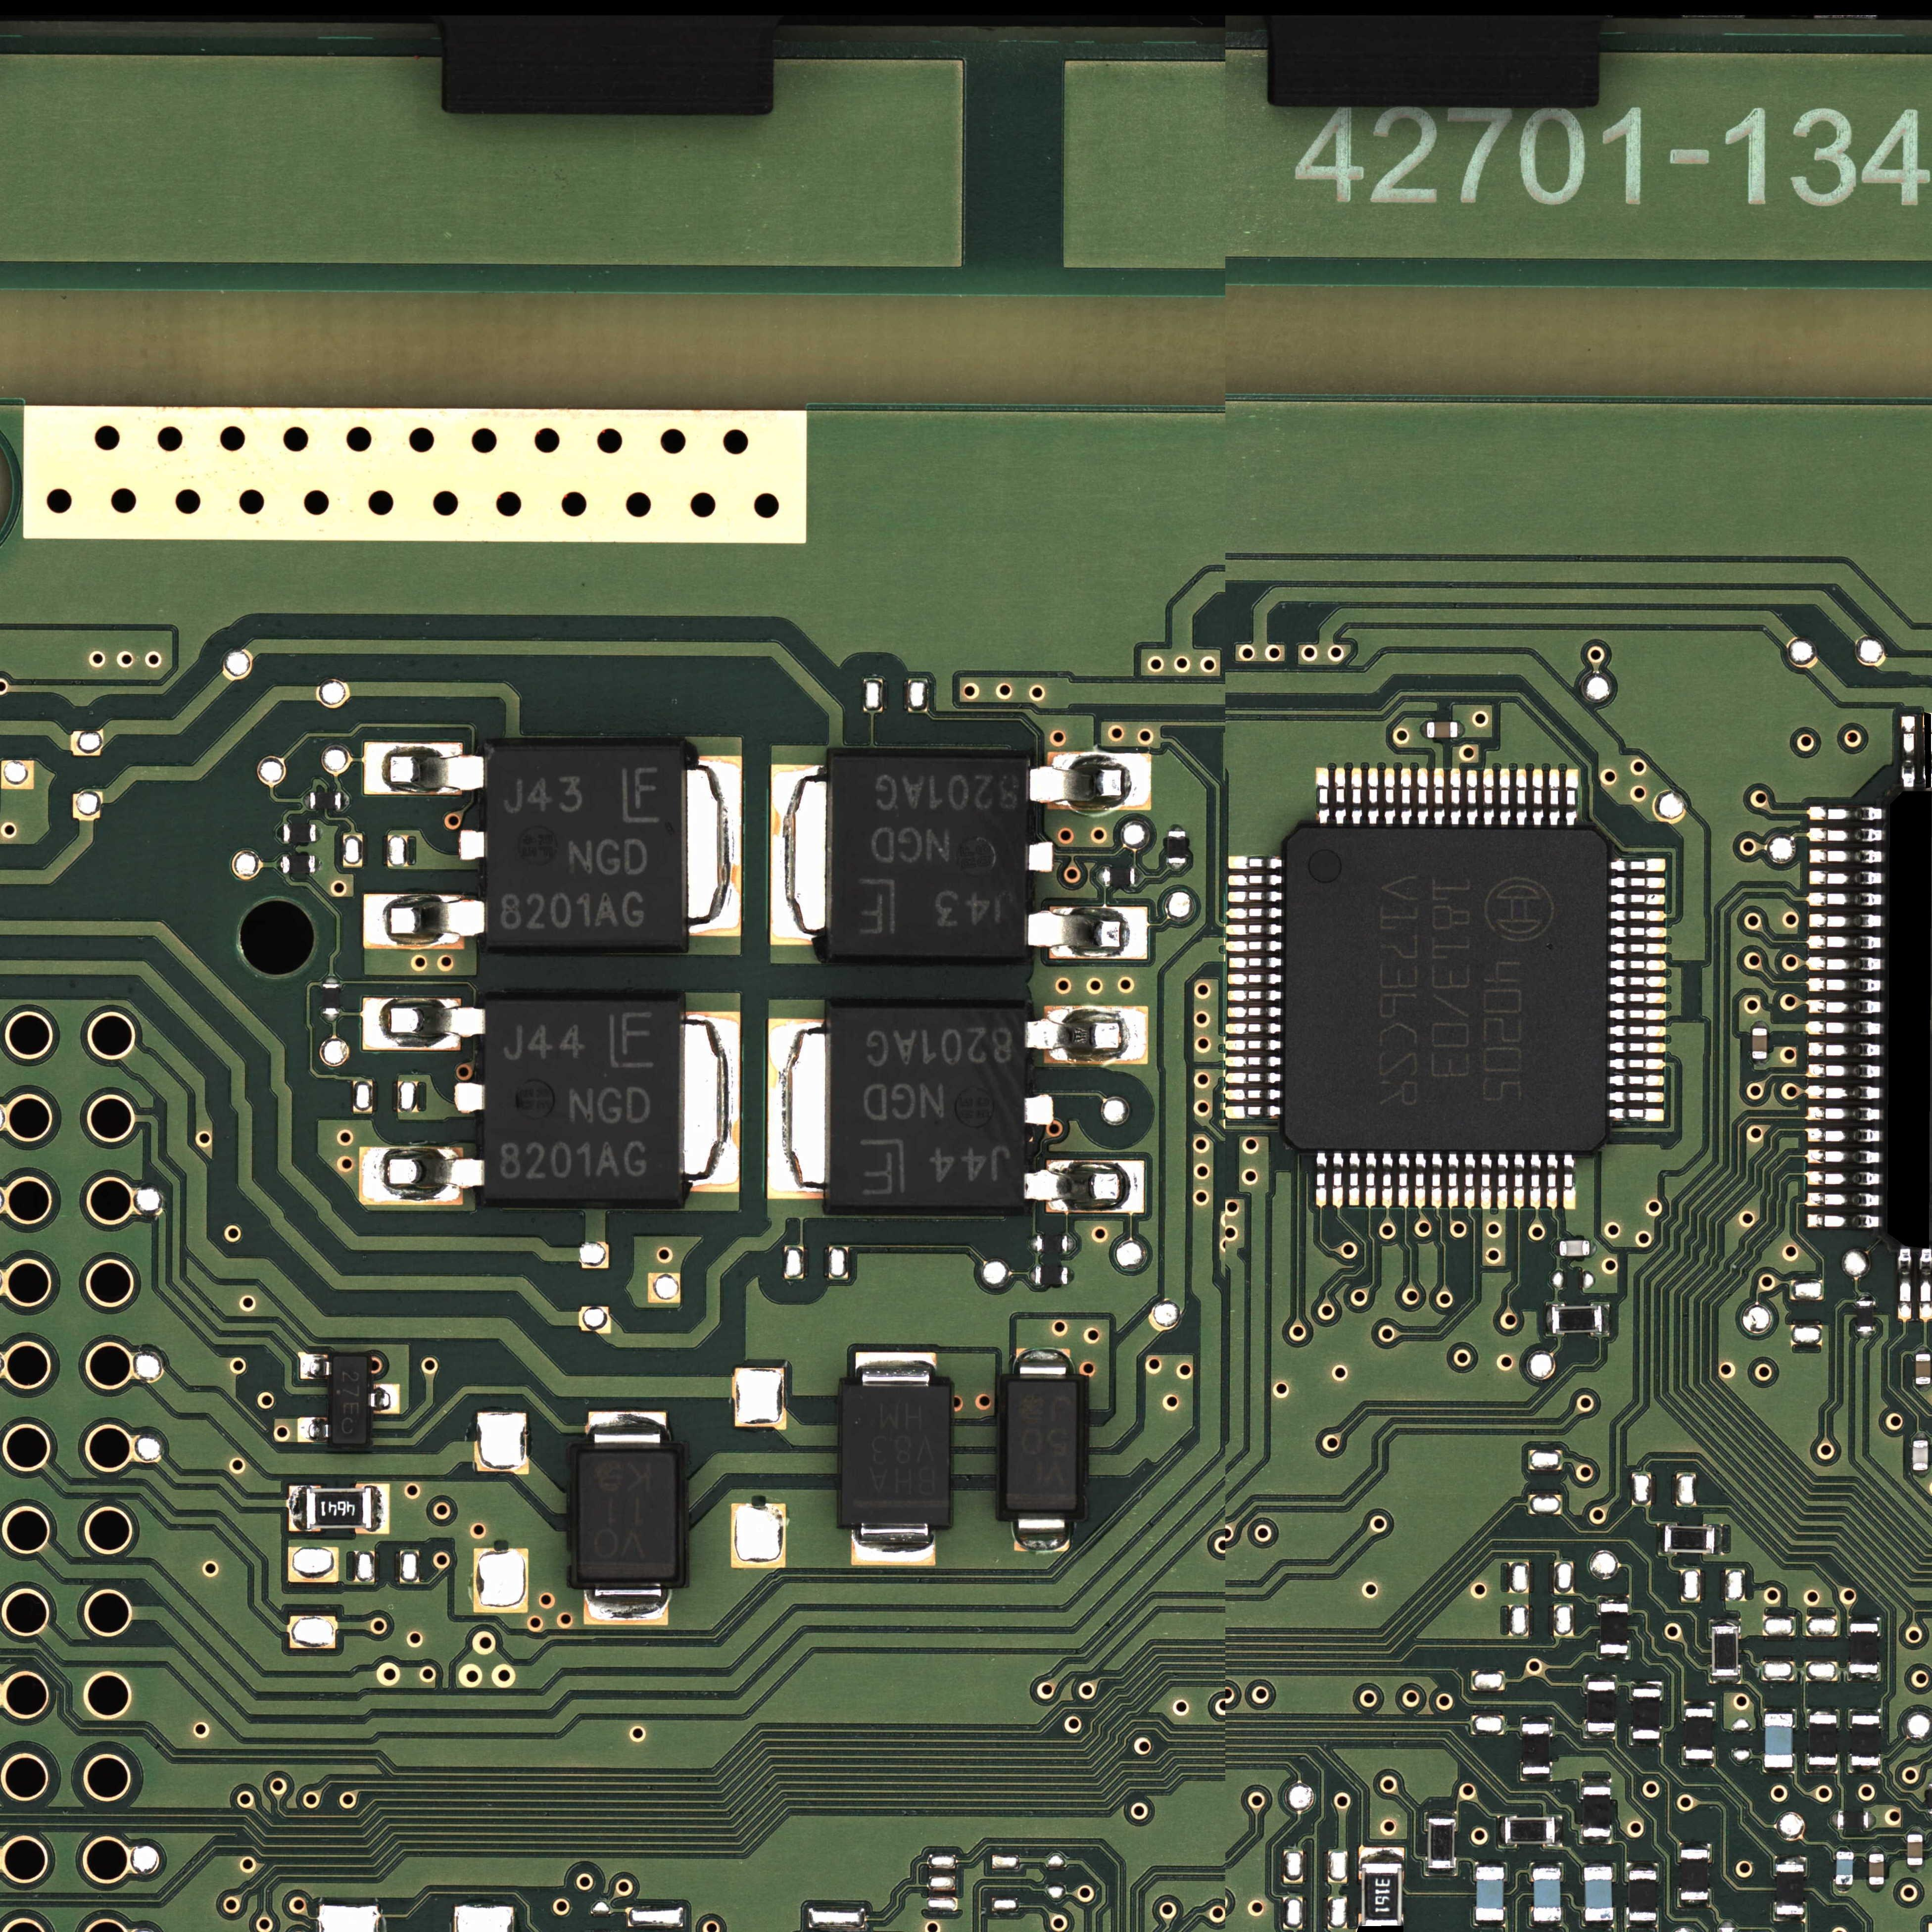Package: (1283, 828, 1606, 1152), (485, 745, 681, 947), (830, 1008, 1024, 1207), (832, 757, 1024, 957), (485, 1001, 678, 1200), (837, 1382, 954, 1525), (571, 1445, 683, 1583), (1000, 1375, 1083, 1516), (331, 1353, 370, 1445), (306, 1488, 372, 1529), (1362, 1867, 1401, 1928), (1764, 1714, 1792, 1767), (1476, 1867, 1504, 1920), (1534, 1868, 1560, 1921), (1585, 1867, 1612, 1920), (1587, 1683, 1615, 1732), (1808, 1714, 1836, 1764), (1599, 1603, 1628, 1652), (1851, 1716, 1879, 1766), (1522, 1723, 1550, 1773), (1681, 1849, 1707, 1900), (1629, 1870, 1656, 1920), (1552, 1306, 1601, 1332), (1633, 1690, 1660, 1739), (1583, 1787, 1610, 1836), (1776, 1865, 1803, 1914), (1686, 1709, 1713, 1759), (1428, 1819, 1454, 1868), (1851, 1624, 1877, 1672), (1665, 1527, 1714, 1552), (1506, 1819, 1555, 1844), (1713, 1626, 1737, 1675), (281, 855, 315, 874), (1168, 832, 1187, 863), (283, 824, 317, 842), (1035, 1235, 1069, 1253), (310, 793, 341, 810), (1104, 869, 1136, 886), (1035, 1267, 1067, 1284), (1836, 1812, 1868, 1829), (1836, 1852, 1852, 1886), (322, 984, 340, 1014), (1426, 722, 1458, 738), (1858, 1300, 1874, 1332), (1559, 1240, 1589, 1256), (1752, 1028, 1767, 1058), (1913, 1440, 1928, 1470), (1907, 1835, 1923, 1865), (1868, 1854, 1884, 1884), (1916, 1353, 1930, 1384)
Solder: (681, 755, 743, 938), (768, 1017, 830, 1198), (678, 1012, 740, 1191), (771, 764, 832, 945), (1024, 1005, 1146, 1065), (361, 1146, 485, 1205), (1026, 752, 1150, 809), (363, 893, 483, 950), (1024, 906, 1148, 961), (364, 996, 485, 1051), (1024, 1161, 1145, 1214), (364, 741, 483, 794), (851, 1525, 936, 1566), (584, 1587, 669, 1626), (855, 1352, 936, 1384), (589, 1412, 667, 1444), (1012, 1518, 1070, 1552), (1016, 1348, 1070, 1373), (1808, 826, 1884, 842), (1808, 955, 1884, 971), (1900, 715, 1916, 789), (1808, 892, 1882, 908), (1808, 913, 1882, 929), (1806, 1085, 1881, 1100), (1897, 1247, 1913, 1320), (1808, 807, 1884, 821), (1806, 1108, 1882, 1122), (1806, 1171, 1882, 1185), (1810, 849, 1884, 863), (1810, 870, 1884, 885), (1808, 936, 1882, 950), (1808, 978, 1882, 993), (1808, 1000, 1882, 1014), (1808, 1021, 1882, 1035), (1808, 1042, 1882, 1056), (1806, 1065, 1881, 1079), (1808, 1129, 1882, 1143), (1808, 1192, 1882, 1207), (1808, 1214, 1882, 1228), (1806, 1150, 1881, 1164), (1918, 1249, 1932, 1320), (1024, 1093, 1054, 1125), (370, 1384, 400, 1414), (455, 1083, 483, 1115), (372, 1484, 389, 1534), (299, 1353, 331, 1380), (288, 1484, 306, 1532), (1361, 1845, 1403, 1865), (1610, 858, 1667, 872), (1026, 842, 1053, 872), (297, 1417, 329, 1442), (460, 830, 485, 860), (1334, 766, 1346, 824), (1316, 766, 1329, 824), (1384, 768, 1396, 826), (1566, 768, 1578, 826), (1433, 768, 1445, 826), (1483, 768, 1495, 826), (1608, 1008, 1667, 1021), (1608, 1024, 1667, 1037), (1226, 924, 1283, 936), (1226, 939, 1283, 952), (1224, 1106, 1281, 1118), (1224, 1072, 1281, 1085), (1224, 1088, 1281, 1100), (1224, 1039, 1281, 1051), (1610, 909, 1667, 922), (1548, 770, 1560, 826), (1608, 1074, 1665, 1086), (1608, 1058, 1665, 1070), (1610, 975, 1667, 987), (1610, 959, 1667, 971), (1564, 1154, 1576, 1210), (1228, 856, 1283, 869), (1228, 874, 1283, 886), (1228, 890, 1283, 902), (1228, 973, 1283, 985), (1228, 989, 1283, 1001), (1226, 1023, 1281, 1035), (1608, 1108, 1663, 1120), (1352, 768, 1362, 826), (1368, 768, 1378, 826), (1401, 768, 1412, 826), (1417, 768, 1428, 826), (1516, 768, 1527, 826), (1532, 768, 1543, 826), (1500, 768, 1511, 826), (1451, 768, 1461, 826), (1608, 1042, 1667, 1053), (1226, 908, 1283, 918), (1316, 1152, 1327, 1208), (1366, 1152, 1376, 1208), (1398, 1152, 1408, 1208), (1382, 1152, 1392, 1208), (1224, 1056, 1281, 1067), (1610, 893, 1667, 904), (1610, 943, 1667, 954), (1467, 770, 1477, 826), (1610, 927, 1667, 938), (1608, 1092, 1665, 1102), (1497, 1154, 1507, 1210), (1514, 1154, 1525, 1210), (1530, 1154, 1541, 1210), (1481, 1154, 1491, 1210), (1610, 993, 1667, 1003), (1228, 957, 1283, 968), (1332, 1152, 1343, 1207), (1350, 1152, 1361, 1207), (1415, 1154, 1426, 1208), (1431, 1154, 1442, 1208), (1228, 1007, 1283, 1017), (1610, 878, 1665, 888), (1447, 1154, 1458, 1208), (1546, 1154, 1557, 1208), (1465, 1154, 1476, 1208), (1775, 1854, 1806, 1865), (1474, 1920, 1506, 1928), (1601, 1304, 1610, 1334), (1628, 1861, 1658, 1870), (1684, 1700, 1714, 1709), (1849, 1615, 1879, 1624), (1631, 1681, 1661, 1690), (1711, 1675, 1741, 1684), (1583, 1859, 1614, 1868), (1585, 1674, 1615, 1683), (1582, 1778, 1610, 1787), (1851, 1707, 1879, 1716), (1497, 1817, 1506, 1845), (1810, 1707, 1838, 1716), (1681, 1842, 1709, 1851), (1426, 1810, 1454, 1819), (1522, 1716, 1550, 1725), (1522, 1773, 1550, 1782), (1849, 1672, 1877, 1681), (1628, 1920, 1656, 1928), (1599, 1596, 1628, 1605), (1766, 1706, 1794, 1714), (1806, 1766, 1838, 1773), (1530, 1921, 1562, 1928), (1426, 1868, 1456, 1875), (1582, 1836, 1612, 1844), (1585, 1732, 1615, 1739), (1714, 1525, 1721, 1555), (1658, 1523, 1665, 1553), (1711, 1619, 1741, 1626), (1476, 1859, 1506, 1867), (1679, 1900, 1709, 1907), (1775, 1914, 1805, 1921), (1631, 1739, 1661, 1746), (1583, 1921, 1614, 1928), (1851, 1766, 1879, 1773), (1684, 1759, 1713, 1766), (1555, 1817, 1562, 1845), (1599, 1652, 1628, 1660), (1532, 1861, 1560, 1868), (1546, 1304, 1552, 1336), (1764, 1767, 1794, 1773), (1067, 1267, 1076, 1284), (1835, 1884, 1852, 1893), (1134, 869, 1143, 885), (1589, 1240, 1598, 1256), (1552, 1240, 1560, 1256), (1914, 1384, 1930, 1392), (1868, 1812, 1877, 1828), (1913, 1470, 1928, 1479), (1907, 1865, 1923, 1874), (1868, 1884, 1884, 1893), (276, 824, 283, 844), (341, 791, 349, 810), (1168, 863, 1187, 870), (317, 824, 324, 842), (315, 855, 322, 872), (1168, 824, 1185, 832), (1069, 1235, 1076, 1253), (1856, 1332, 1874, 1339), (1856, 1293, 1874, 1300), (1829, 1812, 1836, 1829), (1097, 869, 1104, 885), (1421, 722, 1428, 738), (1030, 1237, 1037, 1253), (1458, 722, 1465, 738), (1752, 1021, 1767, 1028), (1913, 1433, 1928, 1440), (1752, 1058, 1767, 1065), (1916, 1346, 1932, 1353), (1907, 1828, 1923, 1835), (1868, 1847, 1884, 1854), (1836, 1845, 1852, 1852), (324, 1014, 340, 1021), (278, 856, 283, 874), (1030, 1267, 1035, 1284), (304, 793, 310, 809), (324, 977, 340, 982)
